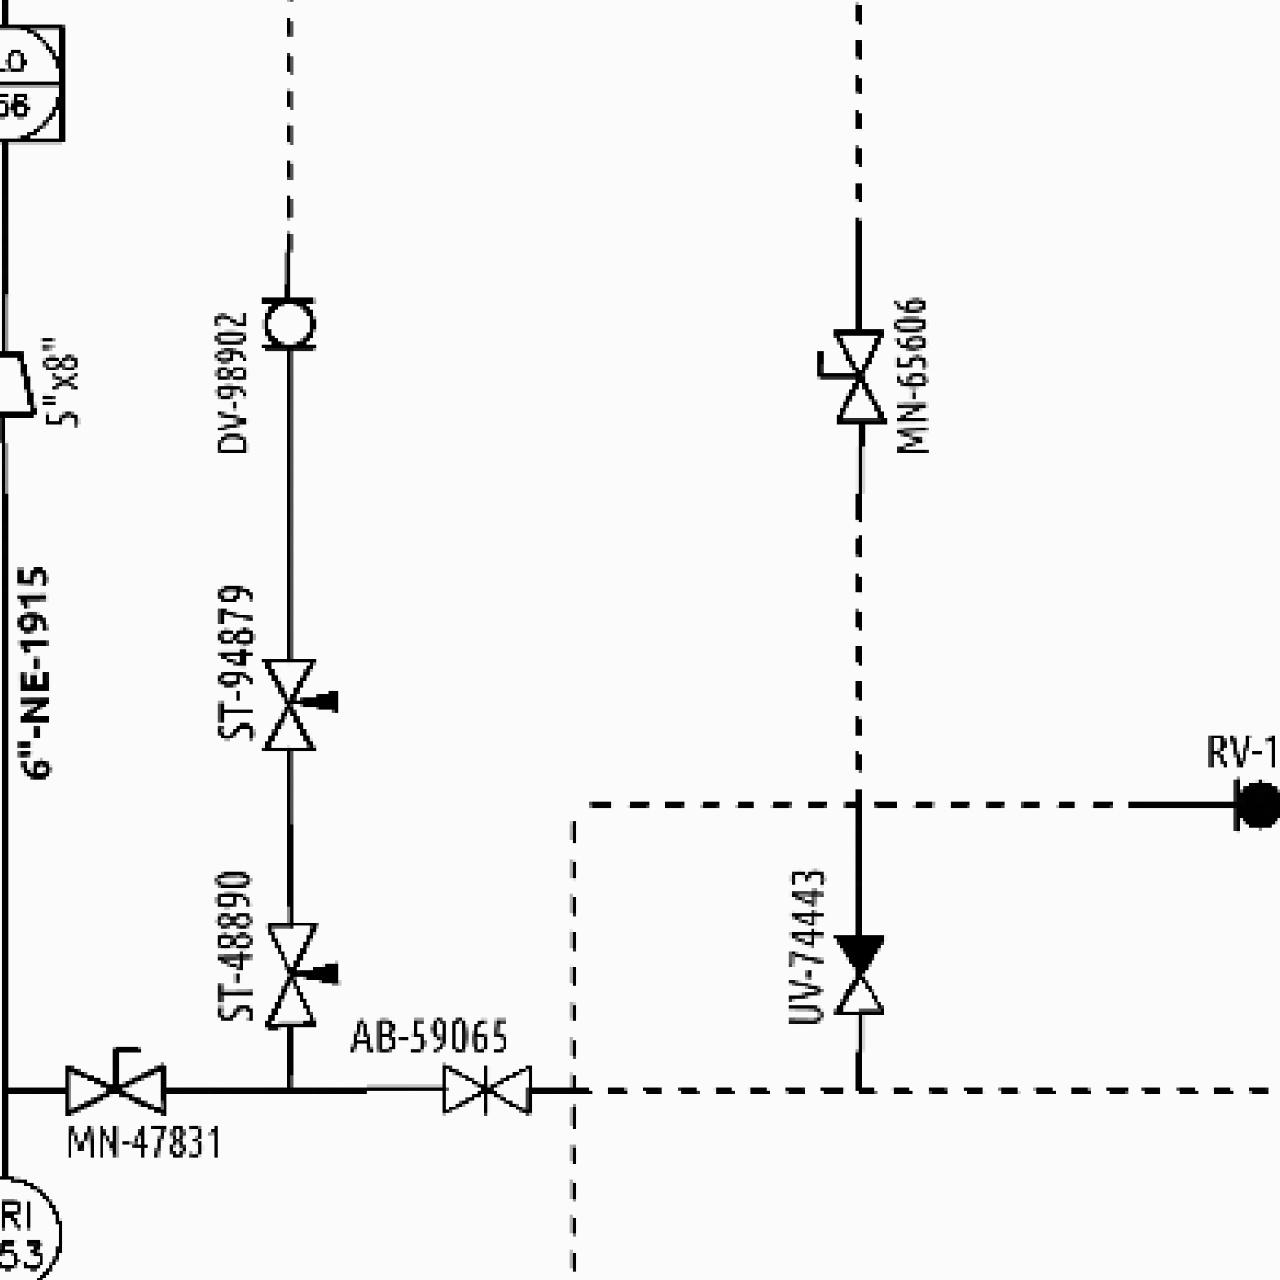Half closed valve: (828, 930, 888, 1017)
